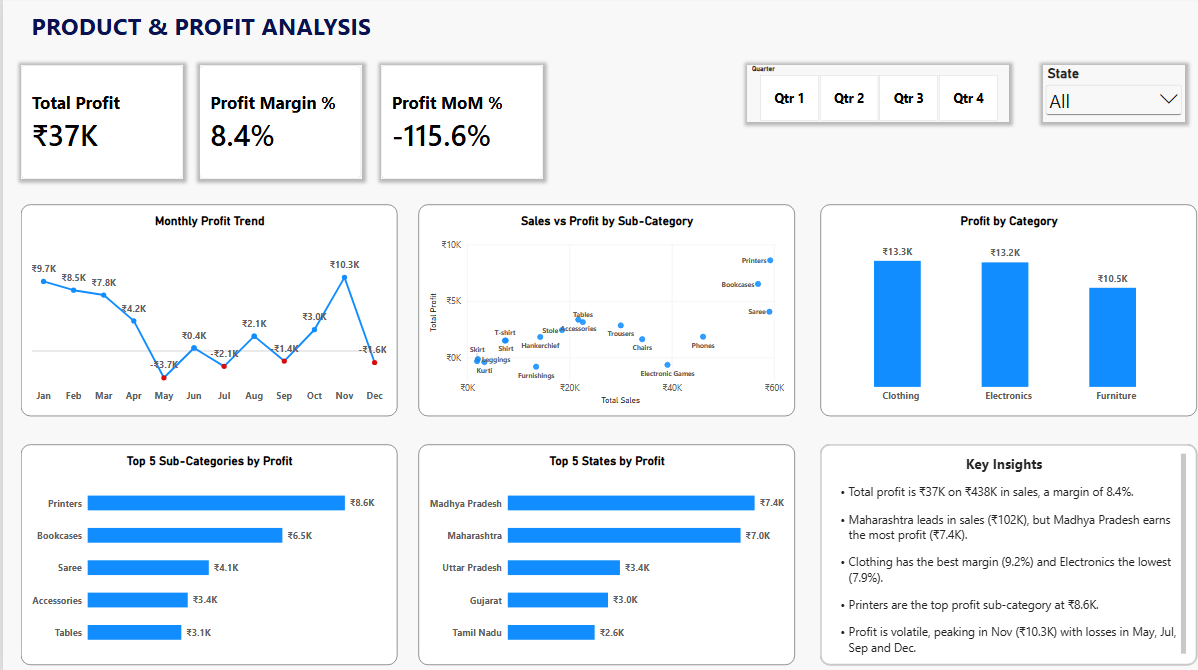

This screenshot's page, from the dashboard's own definition file:
{"tool":"powerbi","page":{"name":"product & profit","canvas":[1920,1080],"ordinal":1},"visuals":[{"type":"cardVisual","fields":{"Data":["Details.Total Profit"]},"box":[28.6,109.8,257.7,181.3],"z":0},{"type":"cardVisual","fields":{"Data":["Details.Profit Margin %"]},"box":[312.6,109.8,257.7,181.3],"z":1000},{"type":"cardVisual","title":"Profit MoM% (Dec vs Nov)","fields":{"Data":["Details.Profit MoM %"]},"box":[601.3,109.8,257.7,181.3],"z":2000},{"type":"lineChart","title":"Monthly Profit Trend","fields":{"Category":["Calendar.Month"],"Y":["Details.Total Profit"]},"box":[28.6,331.7,598.9,336.4],"z":3000},{"type":"scatterChart","title":"Sales vs Profit by Sub-Category","fields":{"Category":["Details.Sub-Category"],"X":["Details.Total Sales"],"Y":["Details.Total Profit"]},"box":[661,331.7,598.9,336.4],"z":4000},{"type":"clusteredColumnChart","title":"Profit by Category","fields":{"Category":["Details.Category"],"Y":["Details.Total Profit"]},"box":[1300.4,331.7,598.9,336.4],"z":5000},{"type":"clusteredBarChart","title":"Top 5 Sub-Categories by Profit","fields":{"Category":["Details.Sub-Category"],"Y":["Details.Total Profit"]},"box":[28.6,713.4,598.9,350.7],"z":6000},{"type":"clusteredBarChart","title":"Top 5 States by Profit","fields":{"Category":["Orders.State"],"Y":["Details.Total Profit"]},"box":[660.9,713.4,598.9,350.7],"z":7000},{"type":"textbox","box":[602,780,150,300],"z":8000},{"type":"textbox","box":[45.3,21.5,594.1,69.2],"z":9000},{"type":"slicer","fields":{"Values":["Calendar.Quarter"]},"box":[1183.4,109.8,417.5,90.7],"z":10000},{"type":"slicer","fields":{"Values":["Orders.State"]},"box":[1653.4,109.8,226.7,90.7],"z":11000},{"type":"textbox","box":[1300.3,713.4,598.9,350.7],"z":11001},{"type":"textbox","box":[859,110,324,181],"z":11002}]}

Visuals, with their boxes in screenshot pixels (x1, y1, x2, y2), scaled from the page's 1920x1080 canvas onto the 1198x670 screenshot:
cardVisual - Details.Total Profit: [left=18, top=68, right=179, bottom=181]
cardVisual - Details.Profit Margin %: [left=195, top=68, right=356, bottom=181]
"Profit MoM% (Dec vs Nov)" cardVisual: [left=375, top=68, right=536, bottom=181]
"Monthly Profit Trend" lineChart: [left=18, top=206, right=392, bottom=414]
"Sales vs Profit by Sub-Category" scatterChart: [left=412, top=206, right=786, bottom=414]
"Profit by Category" clusteredColumnChart: [left=811, top=206, right=1185, bottom=414]
"Top 5 Sub-Categories by Profit" clusteredBarChart: [left=18, top=443, right=392, bottom=660]
"Top 5 States by Profit" clusteredBarChart: [left=412, top=443, right=786, bottom=660]
textbox: [left=376, top=484, right=469, bottom=669]
textbox: [left=28, top=13, right=399, bottom=56]
slicer - Calendar.Quarter: [left=738, top=68, right=999, bottom=124]
slicer - Orders.State: [left=1032, top=68, right=1173, bottom=124]
textbox: [left=811, top=443, right=1185, bottom=660]
textbox: [left=536, top=68, right=738, bottom=181]
